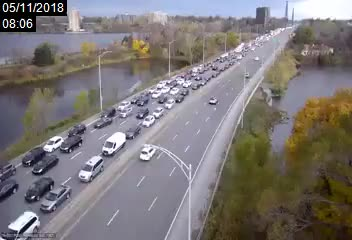congestion: (1, 128, 134, 238), (68, 84, 173, 151), (129, 63, 220, 104), (190, 43, 249, 72)
personal_car: (3, 211, 39, 239), (41, 184, 72, 212), (78, 156, 104, 182), (102, 132, 127, 157), (26, 178, 54, 200), (31, 154, 60, 174), (23, 147, 46, 165), (1, 177, 19, 199), (61, 136, 82, 154), (45, 135, 63, 153), (1, 160, 16, 181), (125, 123, 142, 139), (68, 123, 86, 138), (138, 145, 154, 159), (94, 117, 112, 128), (142, 113, 156, 127), (99, 107, 114, 119), (152, 106, 165, 118), (119, 106, 132, 118), (135, 107, 149, 118), (117, 99, 129, 111), (164, 98, 175, 110), (200, 70, 211, 81), (136, 96, 148, 106), (208, 96, 218, 106), (189, 66, 198, 77), (156, 78, 167, 87), (174, 93, 185, 102), (131, 93, 140, 104), (190, 80, 200, 89), (182, 77, 191, 87), (157, 94, 166, 104), (168, 86, 179, 94), (180, 87, 189, 95), (151, 90, 160, 98), (196, 79, 206, 86), (176, 74, 185, 80), (160, 86, 168, 92), (148, 86, 154, 93), (177, 77, 182, 84)
